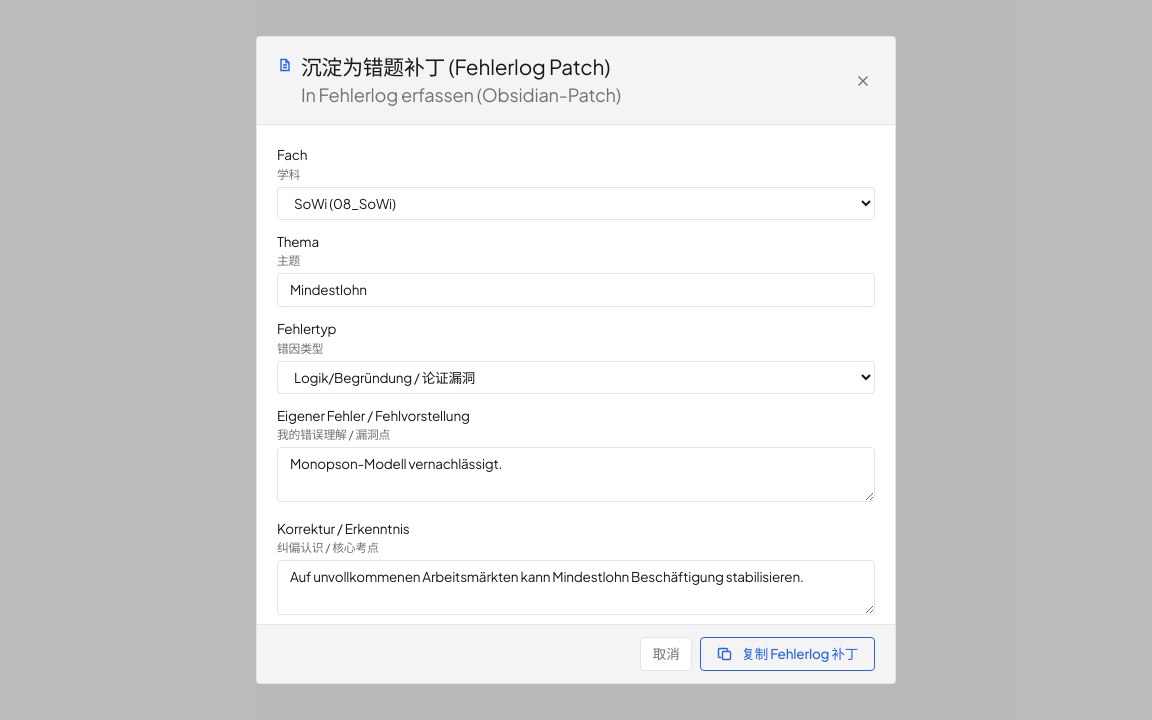
FehlerlogModal.tsx - Interaktiver Fehler-Erfassungs-Dialog › aktualisiert die Ziel-Datei dynamisch bei Fach-Wechsel
Step 1. Select "Philosophie (07_Philosophie)" in the dropdown showing "SoWi (08_SoWi)" → (576, 203), box [277, 187, 875, 220]
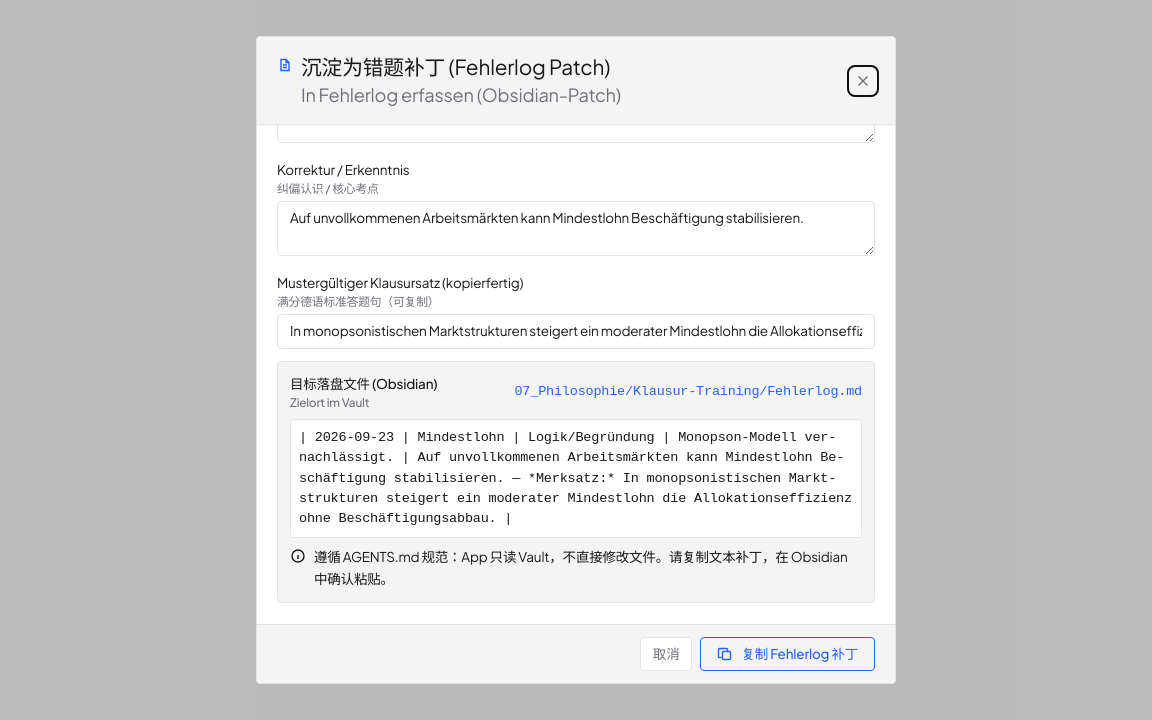
Check: the text "07_Philosophie/Klausur-Training/Fehlerlog.md" is shown, box [514, 382, 862, 402]
